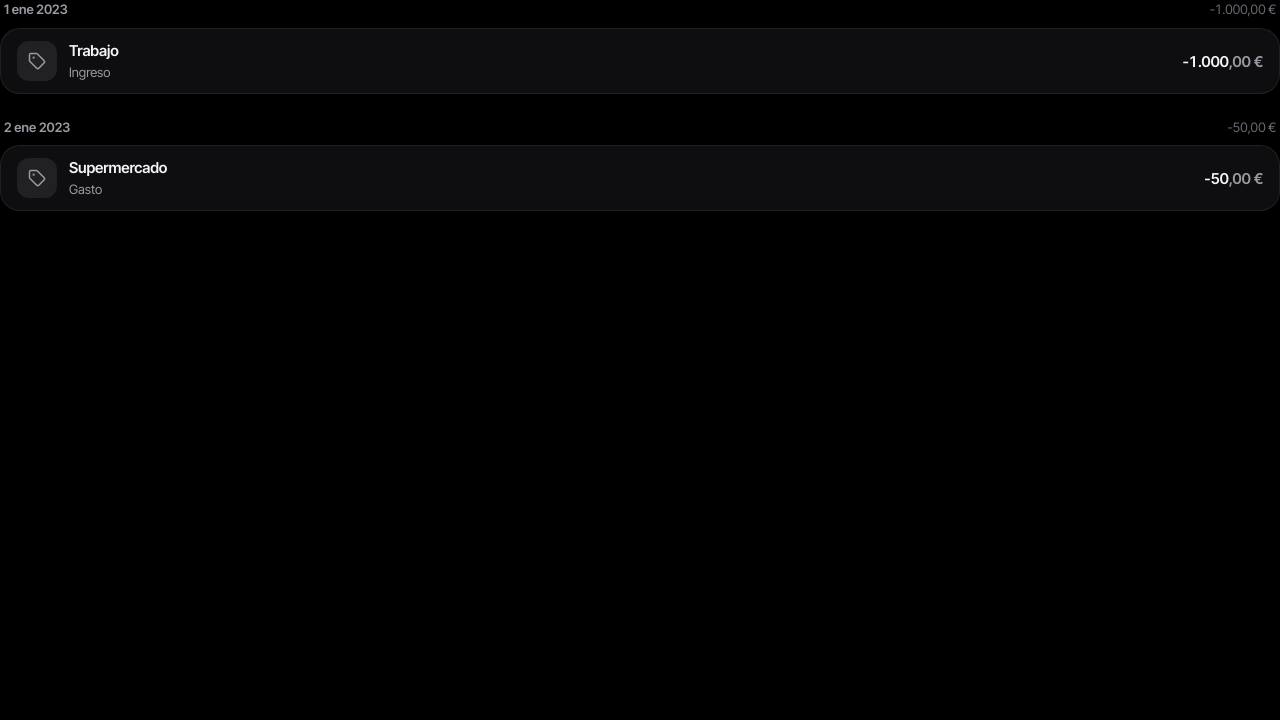
Scenario: FinanceTable › on mobile › opens the detail sheet and deletes only after confirming
The image size is (1280, 720).
Later steps or results of the test are not shown.
Click the button "Trabajo Ingreso -1.000,00€": (37, 60) [1, 28, 1279, 92]
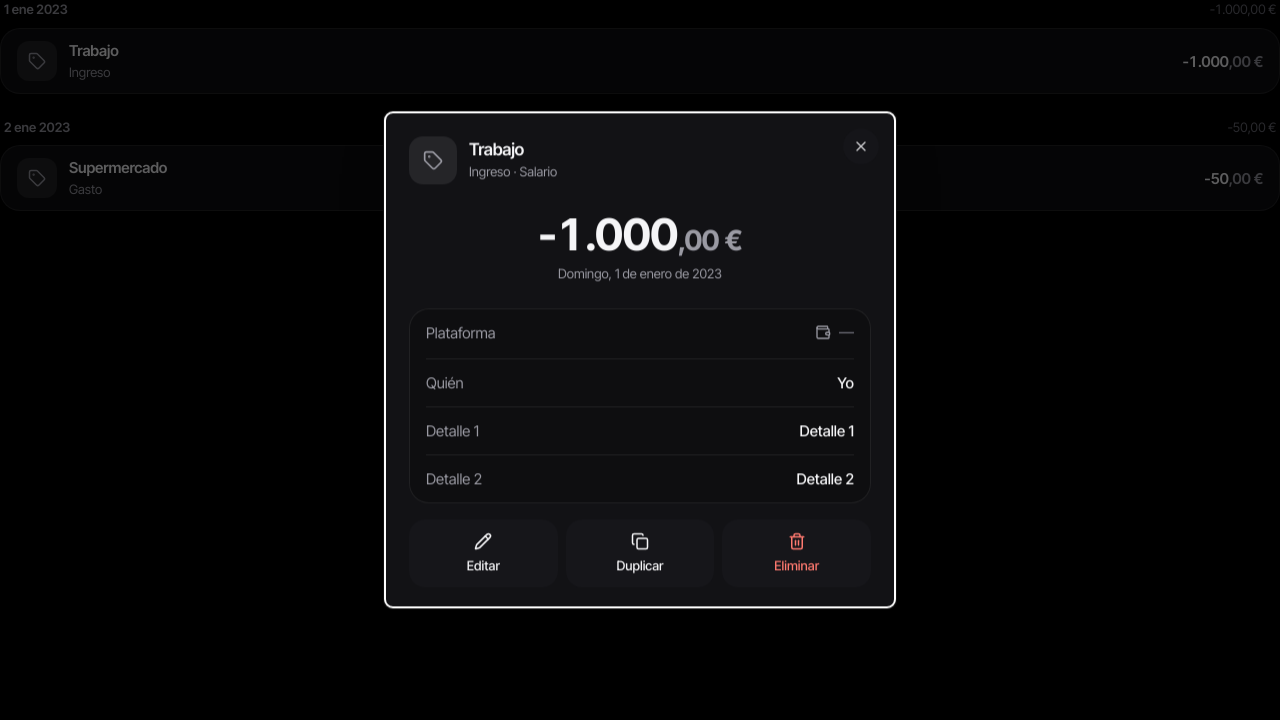
expect the dialog is shown: met, box [384, 111, 896, 609]
expect the 1st text "Detalle 1" is shown: met, box [426, 420, 479, 442]
